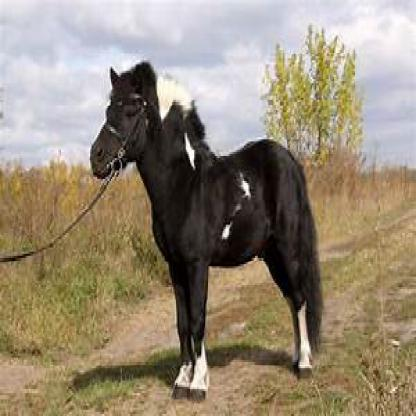horse: (90, 61, 322, 402)
